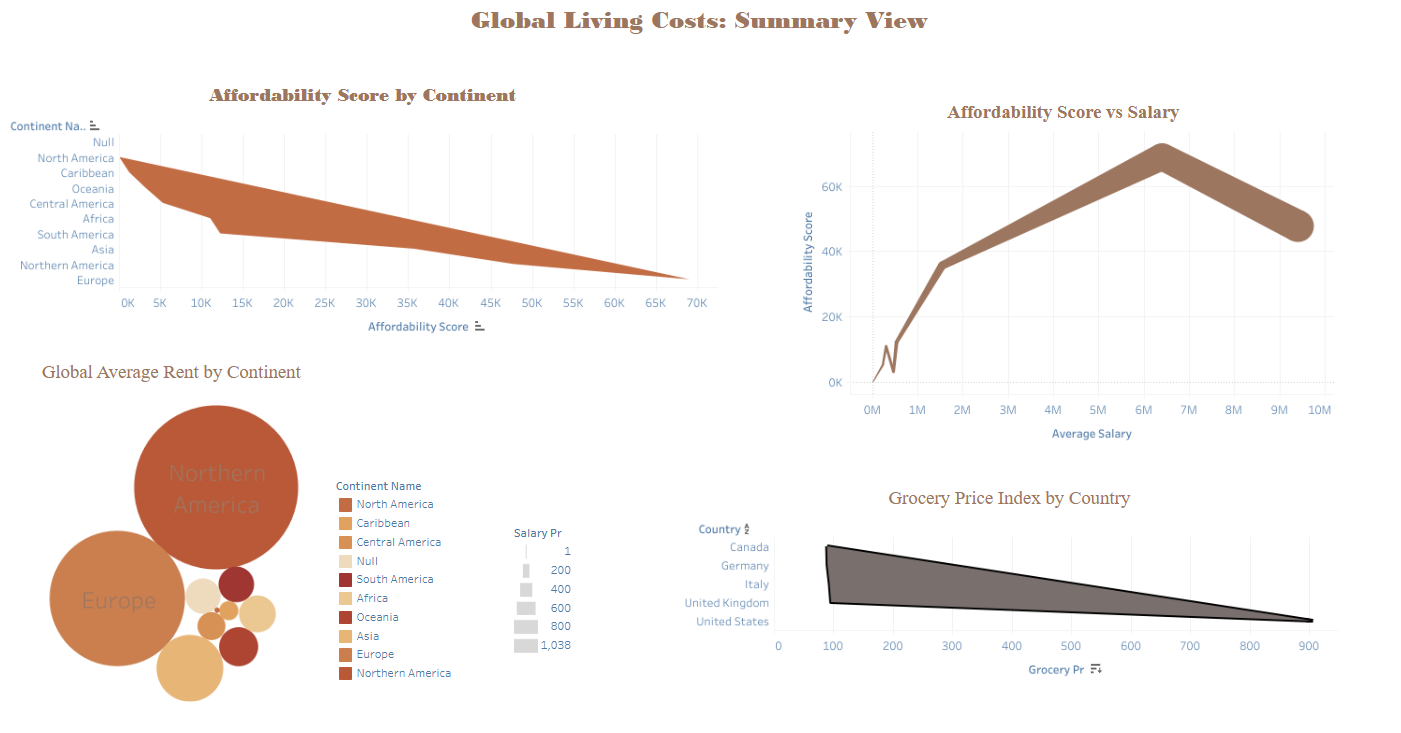

What the dashboard file says about the page in this screenshot:
{"tool":"tableau","page":{"name":"Global Cost of Living – Key Insights","canvas":[1500,900],"ordinal":3},"visuals":[{"type":"worksheet","title":"Affordability Score by Continent","mark":"Polygon","rows":["continent_name"],"cols":["affordability_score"],"box":[21,124,759,280]},{"type":"worksheet","title":"Affordability Score vs Salary","mark":"Line","rows":["affordability_score"],"cols":["average_salary"],"box":[859,142,578,376]},{"type":"worksheet","title":"Global Average Rent by Continent ","mark":"Circle","box":[40,408,662,381]},{"type":"legend","title":"Global Average Rent by Continent ","param":"[federated.01ods2h1wf629m1bzxo0s10bfq2g].[none:continent_name:nk]","box":[372,550,154,232]},{"type":"legend","title":"Affordability Score vs Salary","param":"[federated.01ods2h1wf629m1bzxo0s10bfq2g].[sum:salary_pr:qk]","box":[562,600,190,191]}]}

Visuals, with their boxes on the page's 1500x900 design canvas (x1, y1, x2, y2). These are canvas units, not pixel positions in the 1401x733 screenshot, which may show the page scaled, cropped or inside an application window:
"Affordability Score by Continent" worksheet (Polygon marks): <region>21, 124, 780, 404</region>
"Affordability Score vs Salary" worksheet (Line marks): <region>859, 142, 1437, 518</region>
"Global Average Rent by Continent " worksheet (Circle marks): <region>40, 408, 702, 789</region>
"Global Average Rent by Continent " legend: <region>372, 550, 526, 782</region>
"Affordability Score vs Salary" legend: <region>562, 600, 752, 791</region>
